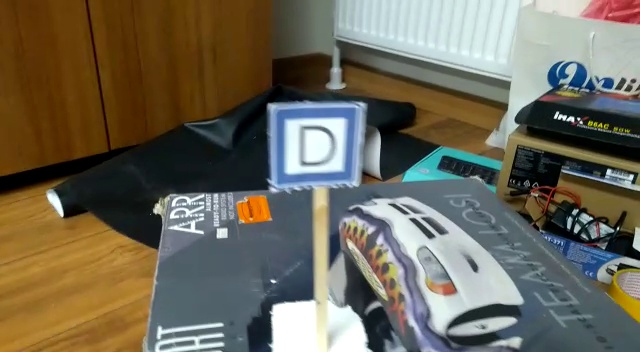durak: (282, 117, 355, 181)
